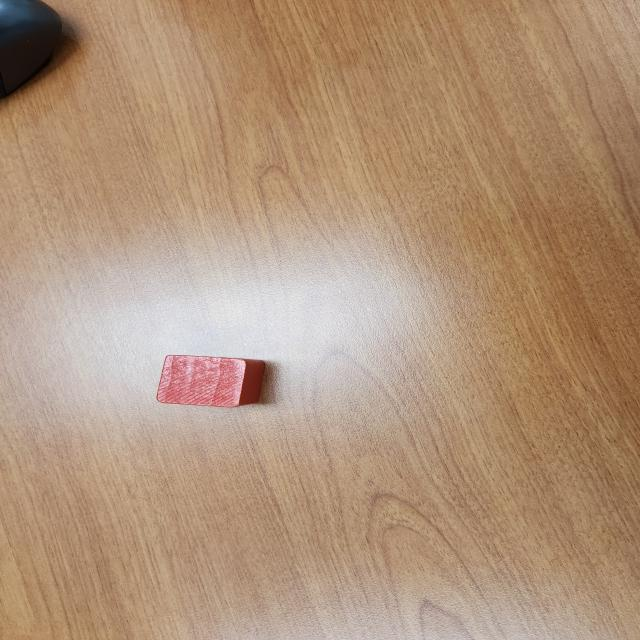red: (154, 355, 266, 408)
